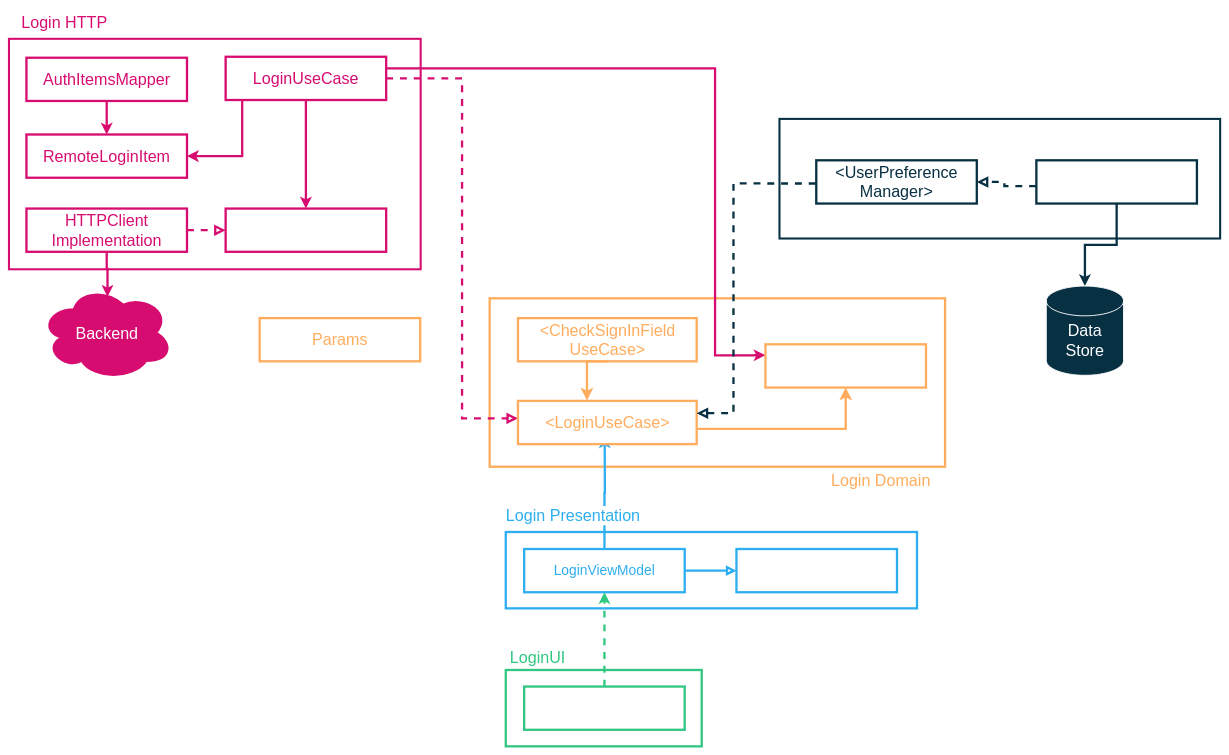
Some shapes in this 1229 by 755 pixel diagram are drawn without their labels. Each missing label, with the centre of its shape:
"<UserPreference ManagerImpl>" goes at (1116,181).
"HTTPClient" goes at (305,230).
"UI Compose" goes at (604,708).
"User" goes at (845,365).
"ViewModel" goes at (816,570).
